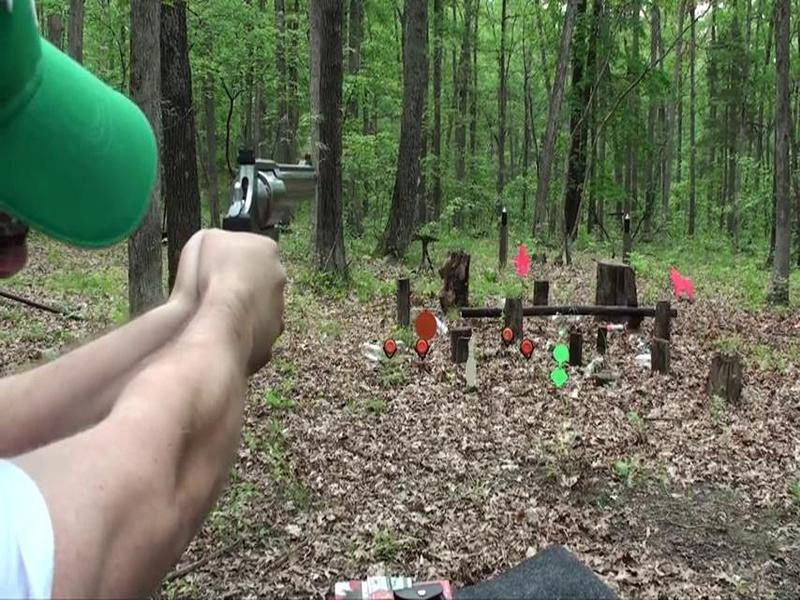Revolver: (215, 124, 322, 255)
